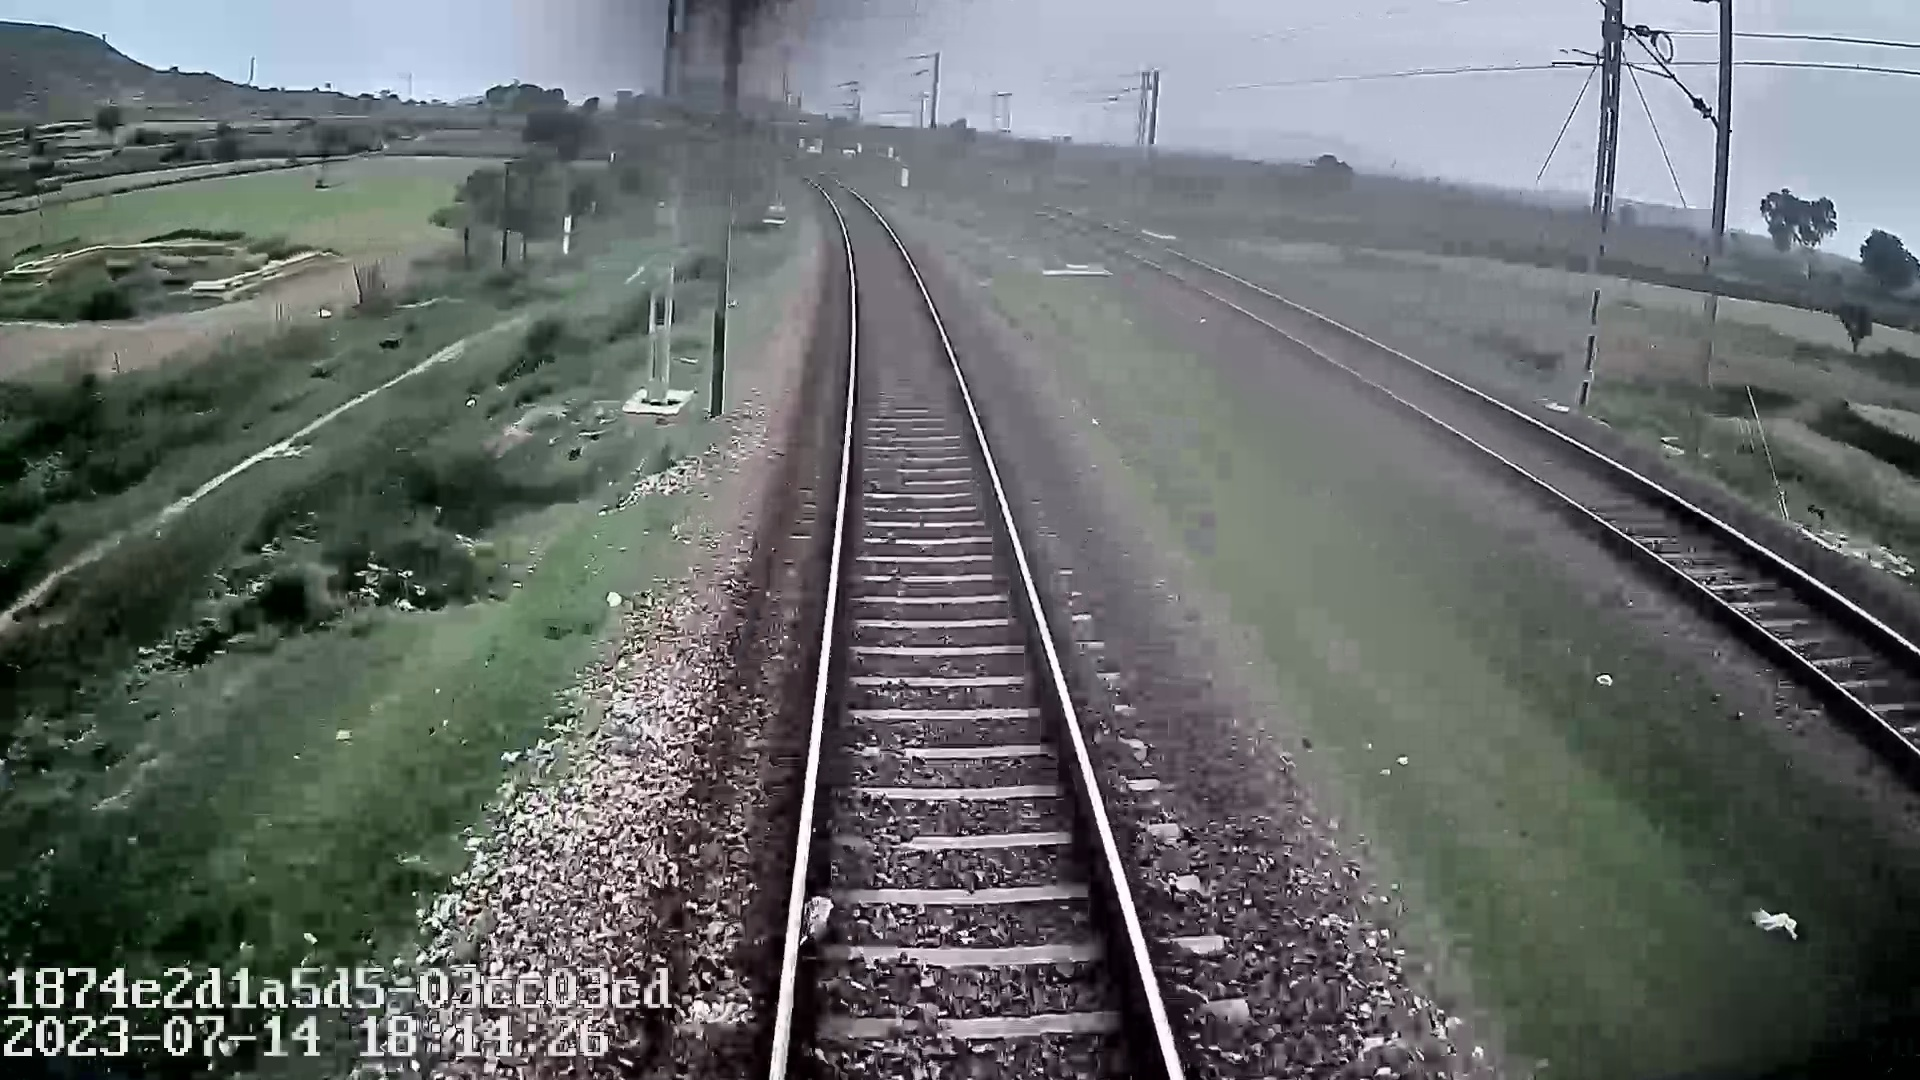track1: (779, 210, 1174, 1064)
track2: (1213, 285, 1904, 729)
